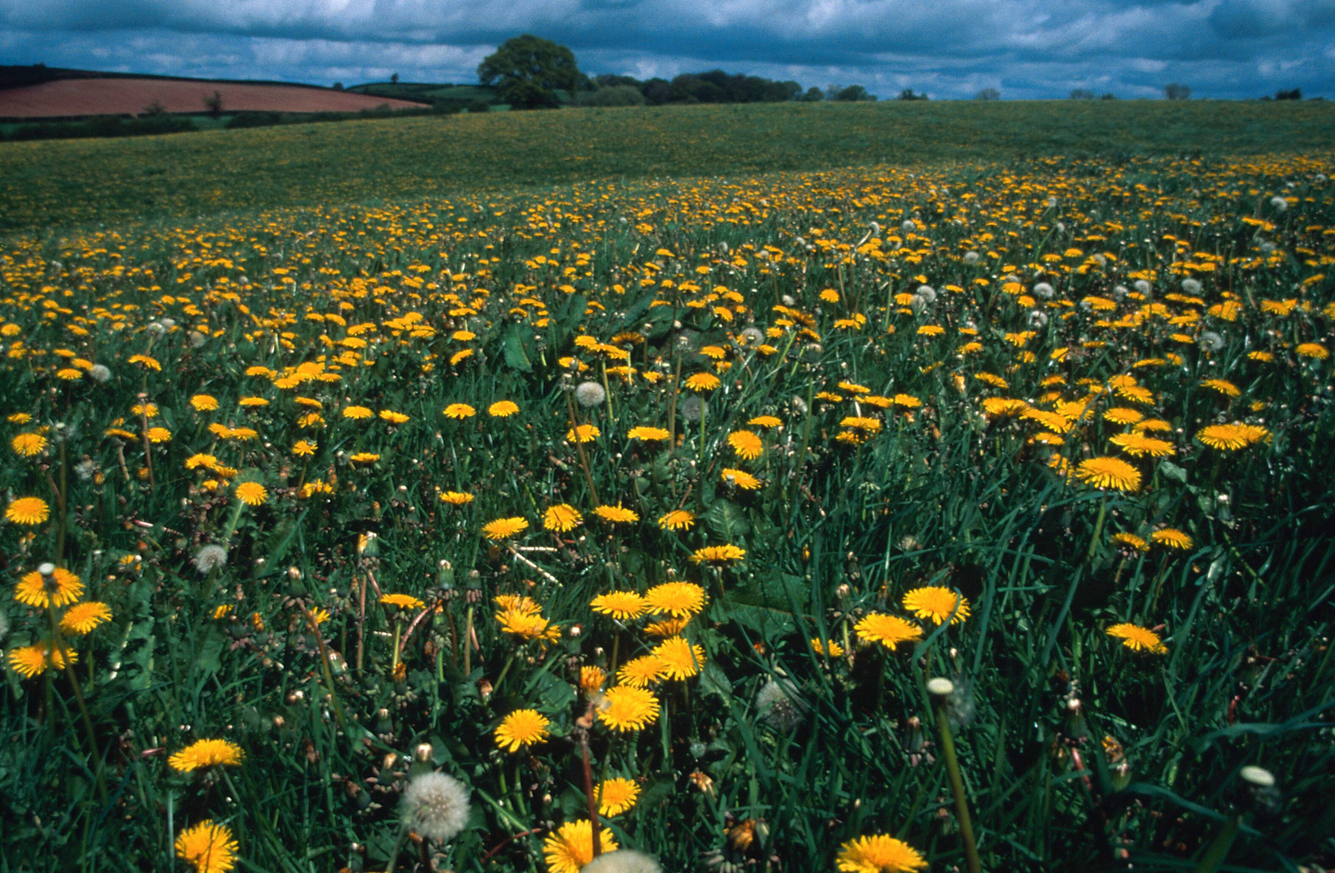begonvil: (115, 218, 605, 362), (170, 441, 272, 536), (397, 765, 483, 856), (480, 580, 571, 661), (893, 574, 981, 653), (1, 633, 92, 704), (829, 818, 944, 873), (1198, 407, 1285, 477), (581, 671, 662, 746), (482, 703, 572, 770), (531, 811, 627, 873), (170, 811, 255, 873), (575, 775, 661, 834), (586, 578, 657, 648), (1094, 614, 1178, 673), (1069, 453, 1151, 512), (1137, 513, 1215, 575), (478, 504, 549, 572), (848, 608, 925, 670), (641, 623, 715, 687), (967, 381, 1036, 443), (13, 564, 89, 619), (160, 731, 240, 782), (257, 356, 343, 402), (5, 479, 65, 543), (1090, 386, 1163, 435), (552, 420, 623, 470), (64, 593, 123, 653), (586, 487, 642, 550), (643, 576, 718, 623), (819, 405, 888, 455), (543, 496, 598, 558), (704, 456, 771, 506), (689, 530, 754, 580), (713, 420, 774, 472), (668, 354, 727, 406), (7, 411, 53, 474), (189, 530, 228, 597), (660, 500, 705, 558), (569, 371, 617, 424), (628, 424, 686, 463), (338, 392, 382, 436), (486, 386, 528, 430), (442, 386, 483, 430), (177, 386, 226, 421)
